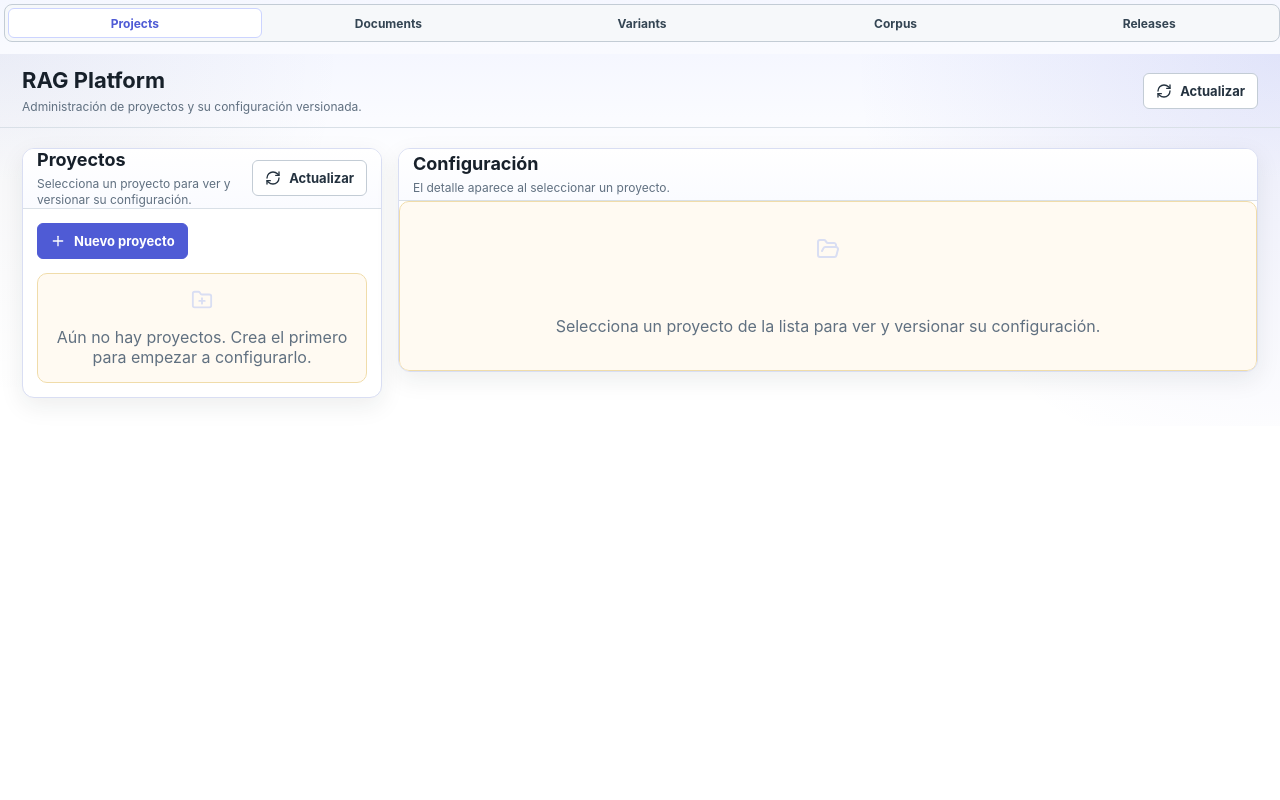
Test: PlatformWorkspace › cada botón de la sub-nav renderiza su workspace
This screenshot has width=1280, height=800.
Expected: the heading "RAG Platform" is shown, [22,67,165,93]
Click the button "Variants". click: point(642, 23)
box: [515,8,769,38]
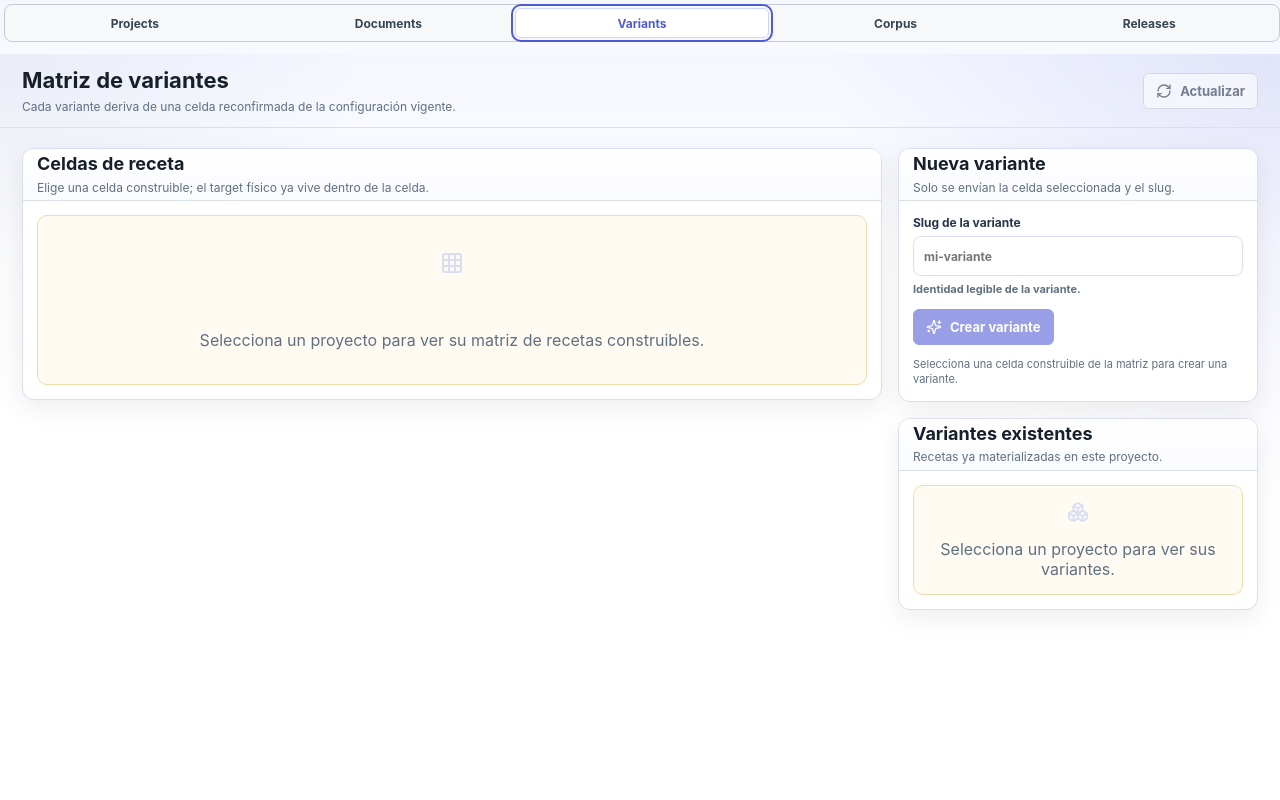
Expected: the heading "Matriz de variantes" is shown, [22,67,229,93]
Expected: the heading "RAG Platform" is gone
Click the button "Documents". click: point(388, 23)
box: [262,8,515,38]
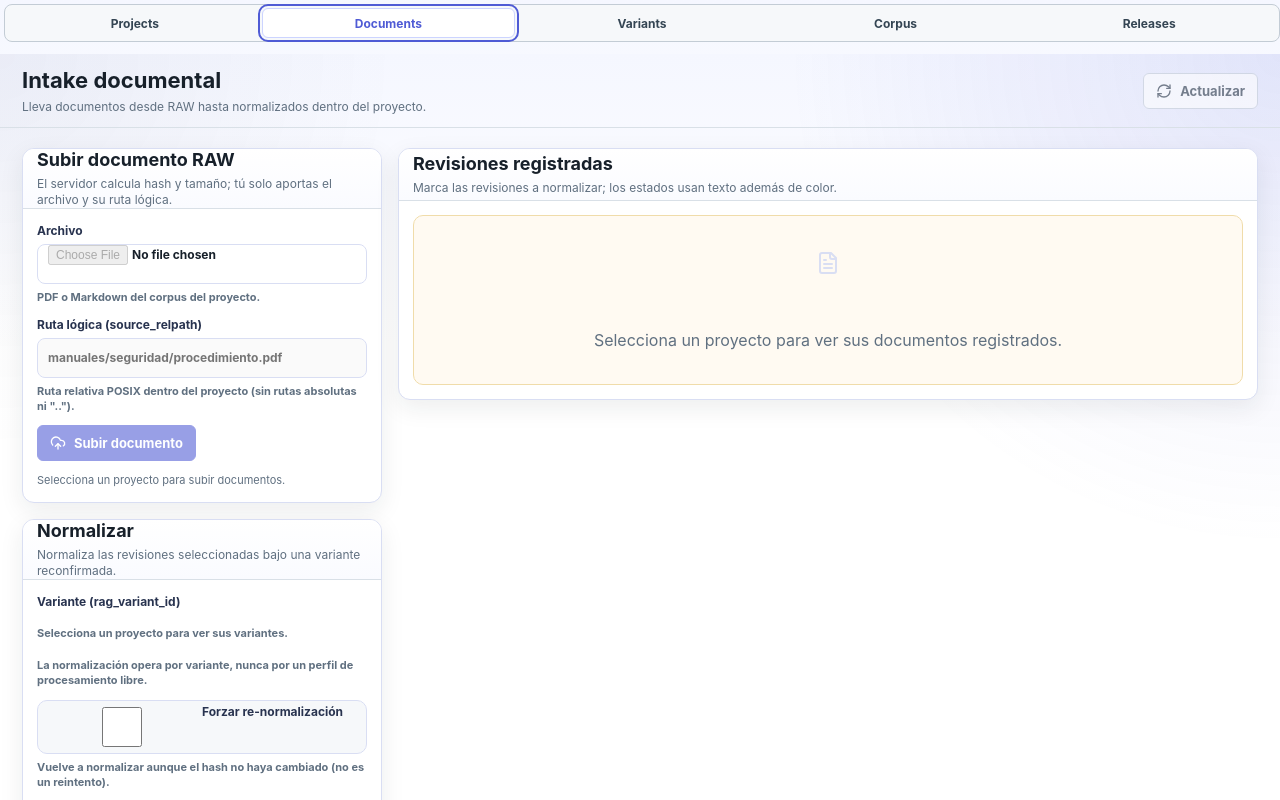
Expected: the heading "Intake documental" is shown, [22,67,221,93]
Expected: the heading "Matriz de variantes" is gone
Click the button "Corpus". click: point(896, 23)
box: [769,8,1022,38]
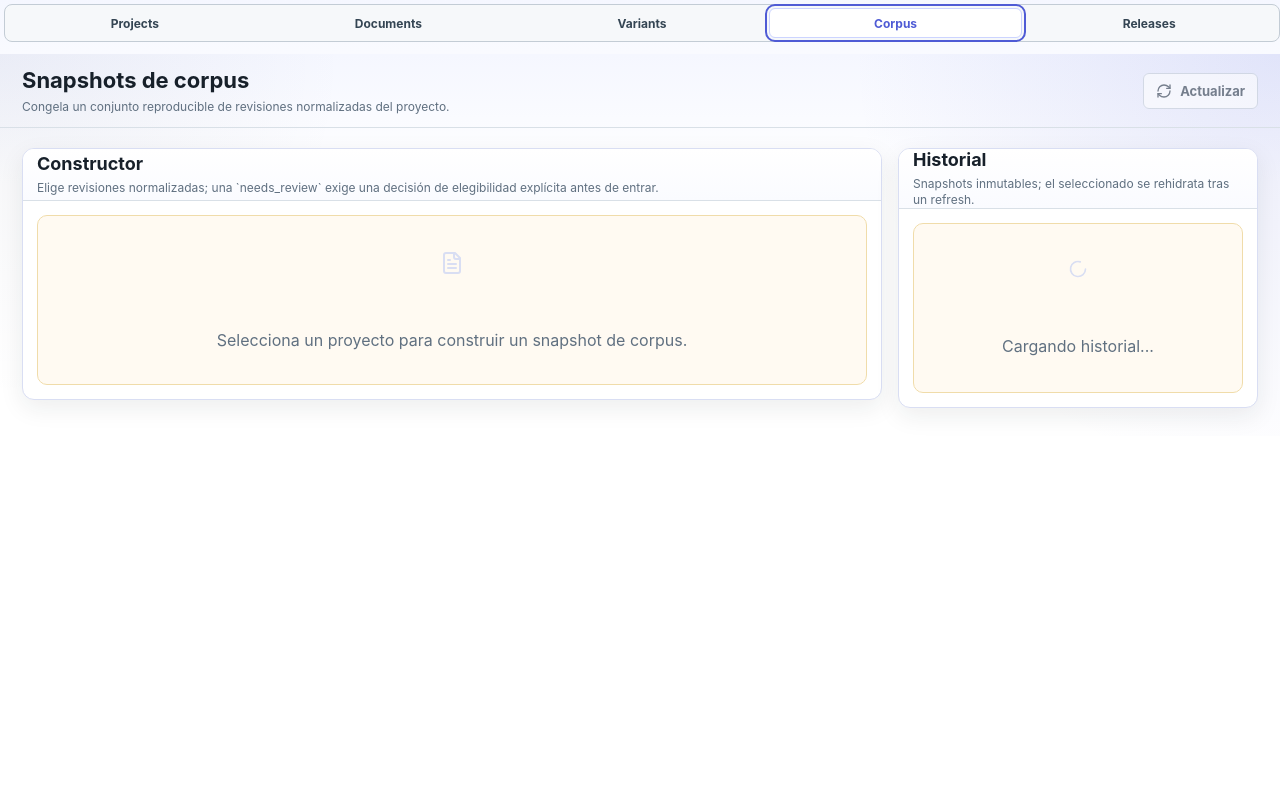
Expected: the heading "Snapshots de corpus" is shown, [22,67,249,93]
Expected: the heading "Intake documental" is gone
Click the button "Releases". click: point(1149, 23)
box: [1022,8,1276,38]
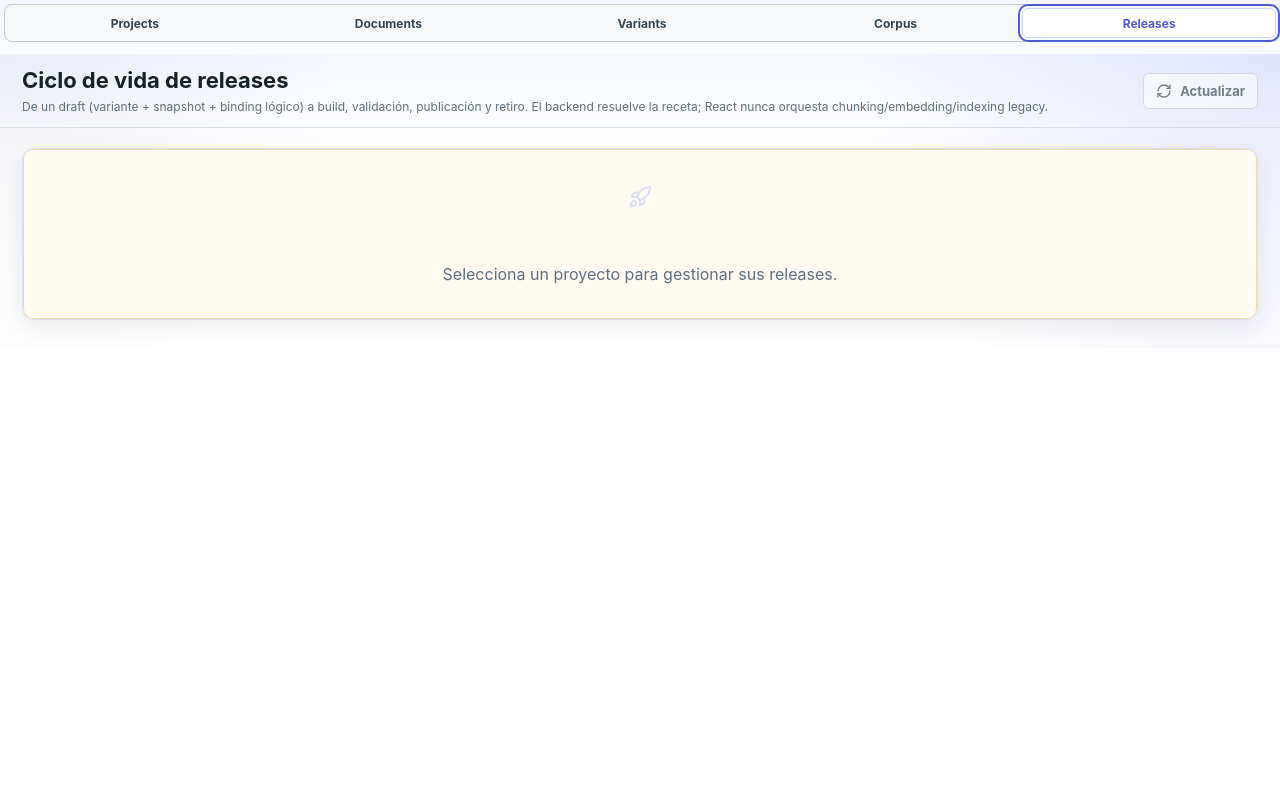
Expected: the heading "Ciclo de vida de releases" is shown, [22,67,288,93]
Expected: the heading "Snapshots de corpus" is gone
Click the button "Projects". click: point(135, 23)
box: [8,8,262,38]
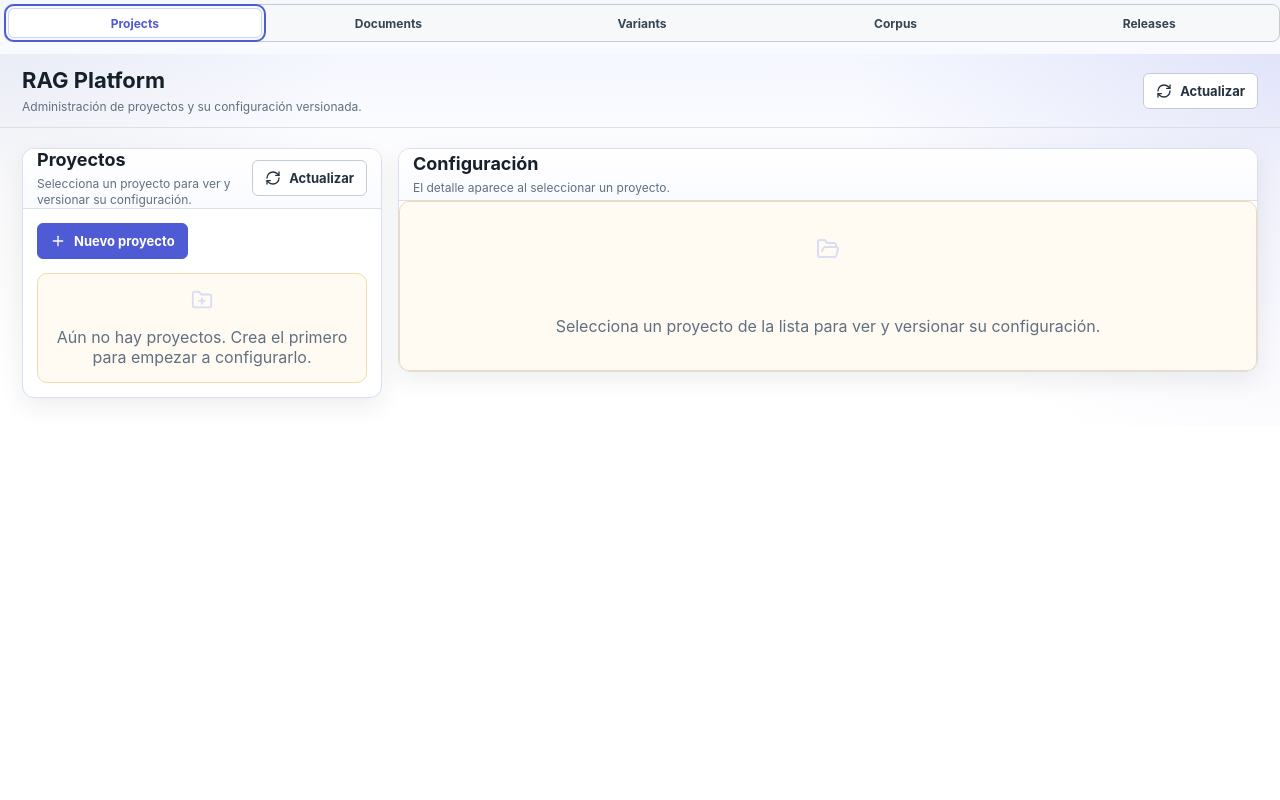
Expected: the heading "RAG Platform" is shown, [22,67,165,93]
